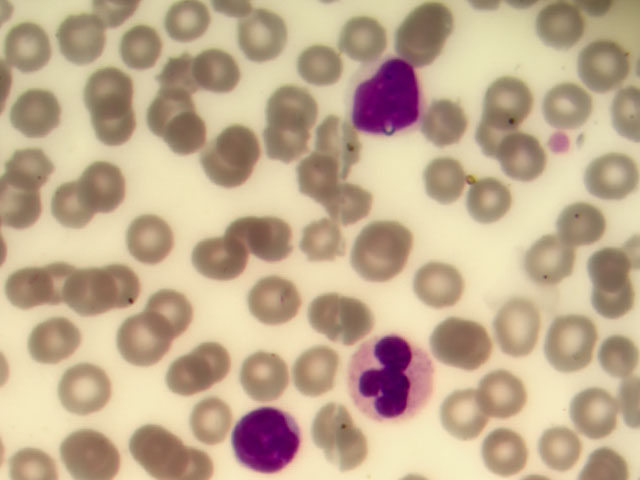RBC: (5, 19, 56, 72), (52, 7, 103, 60), (114, 20, 165, 73), (83, 56, 134, 109), (87, 107, 138, 160), (10, 88, 61, 141), (11, 131, 62, 184), (46, 171, 97, 224), (81, 163, 132, 216), (123, 210, 174, 263), (105, 260, 156, 313), (57, 268, 108, 321), (8, 258, 59, 311), (26, 313, 77, 366), (112, 319, 163, 372), (141, 289, 192, 342), (57, 359, 108, 412), (60, 420, 111, 473), (133, 427, 184, 480), (183, 396, 234, 449), (157, 351, 208, 404), (178, 335, 229, 388), (239, 347, 290, 400), (286, 345, 337, 398), (298, 294, 349, 347), (251, 274, 302, 327), (195, 235, 246, 288), (216, 214, 267, 267), (244, 209, 295, 262), (221, 119, 272, 172), (197, 133, 248, 186), (170, 111, 221, 164), (138, 89, 189, 142), (152, 47, 203, 100), (185, 42, 236, 95), (236, 11, 287, 64), (285, 25, 336, 78), (272, 70, 323, 123), (273, 105, 324, 158), (317, 113, 368, 166), (294, 145, 345, 198), (325, 167, 376, 220), (302, 215, 353, 268), (354, 239, 405, 292), (367, 212, 418, 265), (414, 263, 465, 316), (433, 313, 484, 366), (439, 389, 490, 442), (464, 370, 515, 423), (477, 421, 528, 474), (538, 427, 589, 480), (564, 387, 615, 440), (589, 333, 640, 386), (552, 313, 603, 366), (490, 295, 541, 348), (527, 246, 578, 299), (559, 197, 610, 250), (458, 169, 509, 222), (406, 150, 457, 203), (419, 95, 470, 148), (467, 104, 518, 157), (480, 72, 531, 125), (401, 10, 452, 63), (339, 8, 390, 61), (501, 137, 552, 190), (574, 37, 625, 90), (535, 78, 586, 131), (537, 4, 588, 57), (587, 150, 638, 203), (584, 236, 635, 289), (589, 276, 640, 329), (317, 427, 368, 480), (308, 398, 359, 451), (156, 1, 207, 53)
WBC: (346, 329, 434, 425), (347, 52, 425, 145), (232, 403, 299, 473)
